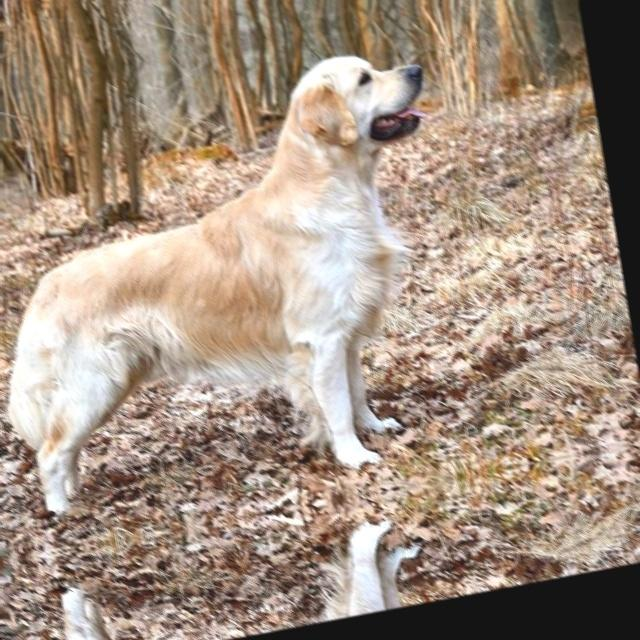dog: (0, 35, 489, 548), (12, 480, 510, 640), (0, 0, 411, 69)
